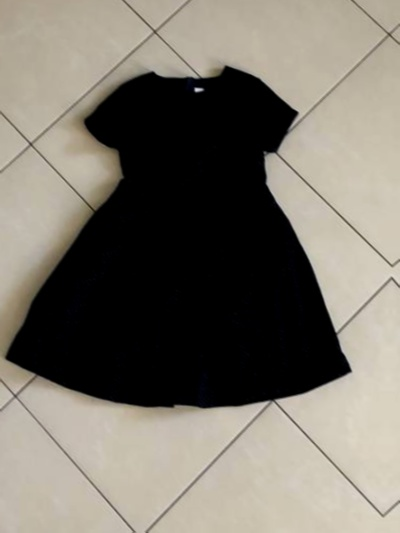Dress: (12, 32, 363, 436)
